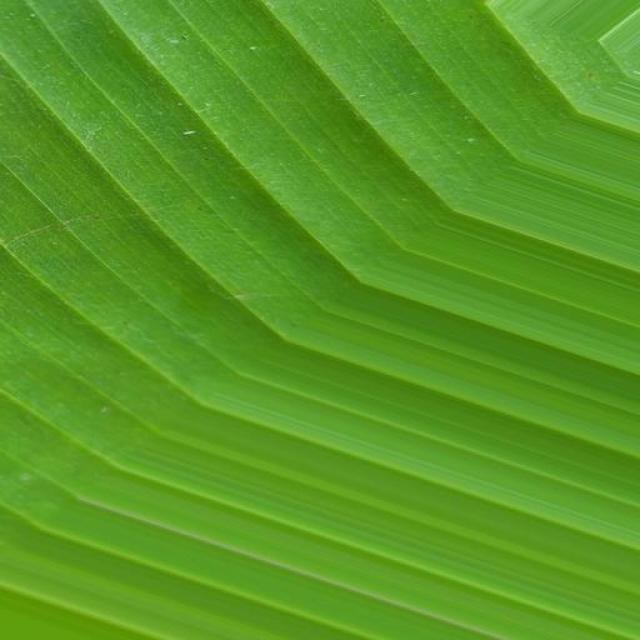Black_leaf_spot: (0, 0, 595, 492)
